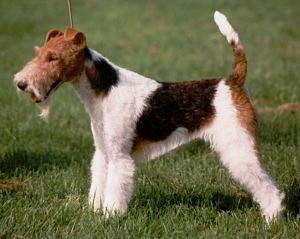wire-haired_fox_terrier: (12, 11, 287, 226)
